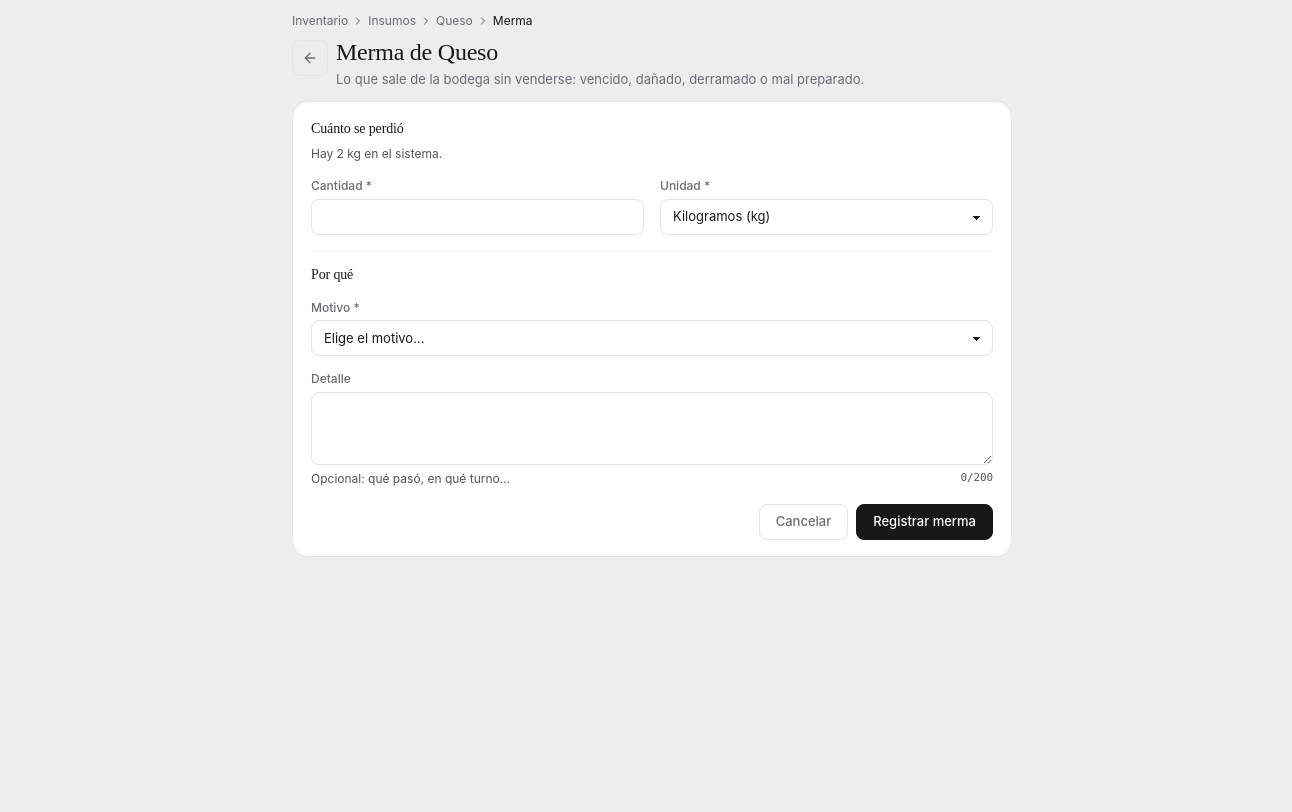
Test: Merma › convierte a la unidad del insumo, dice cuánto quedaría y exige detalle con «Otro»
The image size is (1292, 812).
Select "Gramos (g)" in the dropdown labelled "Unidad *". click: (826, 217)
box: [660,199,993,235]
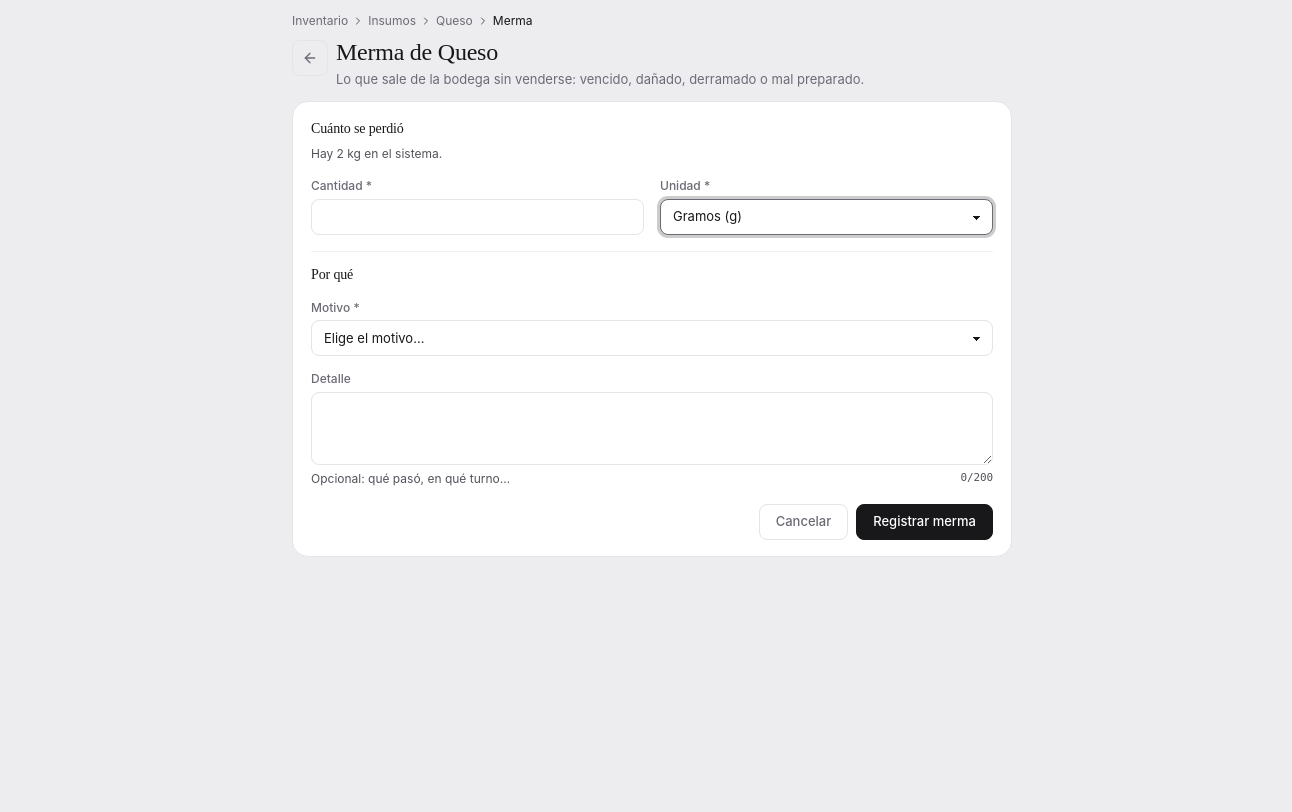
Type "300" into the field labelled "Cantidad *". click: (478, 217)
box: [311,199,644,235]
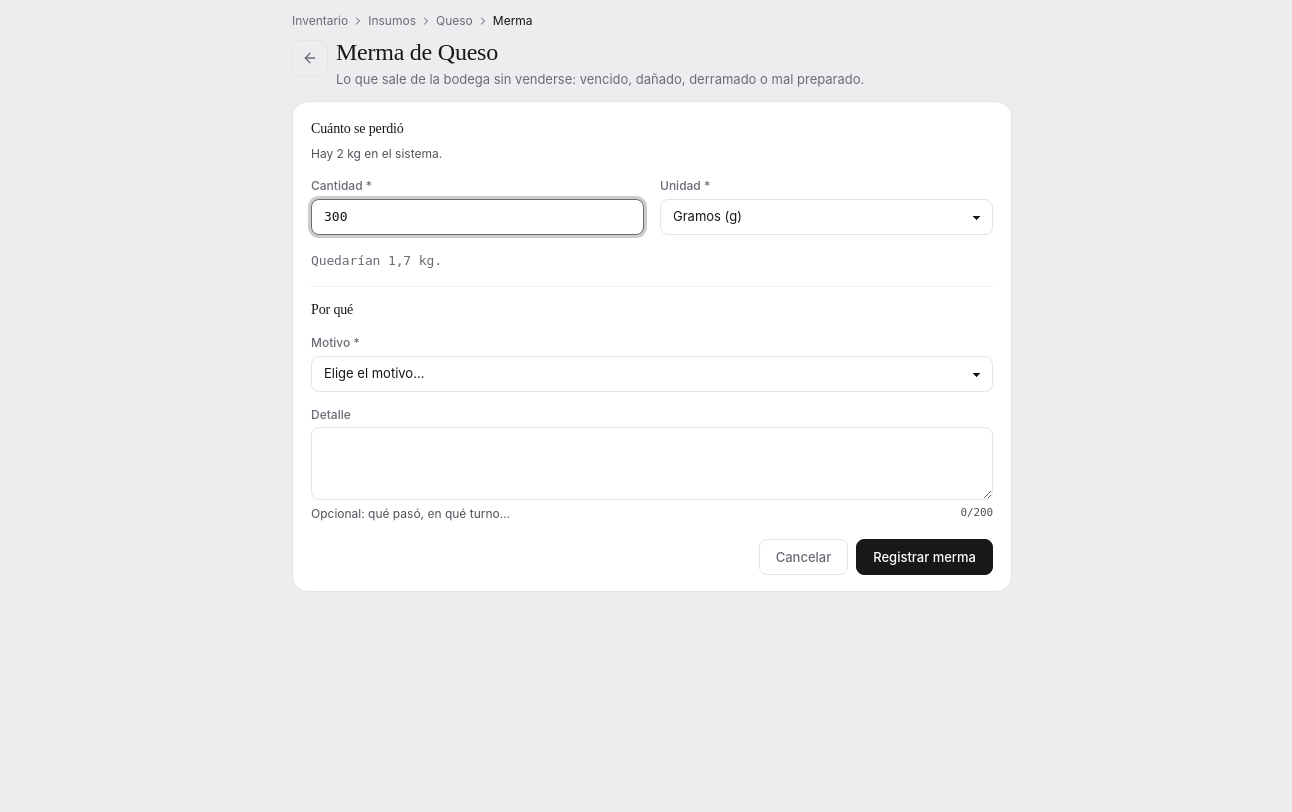
Check: the text "Quedarían 1,7 kg." is shown, box [311,253,442,268]
Select "Otro (cuenta qué pasó)" in the dropdown labelled "Motivo *". click: (652, 374)
box: [311,356,993,392]
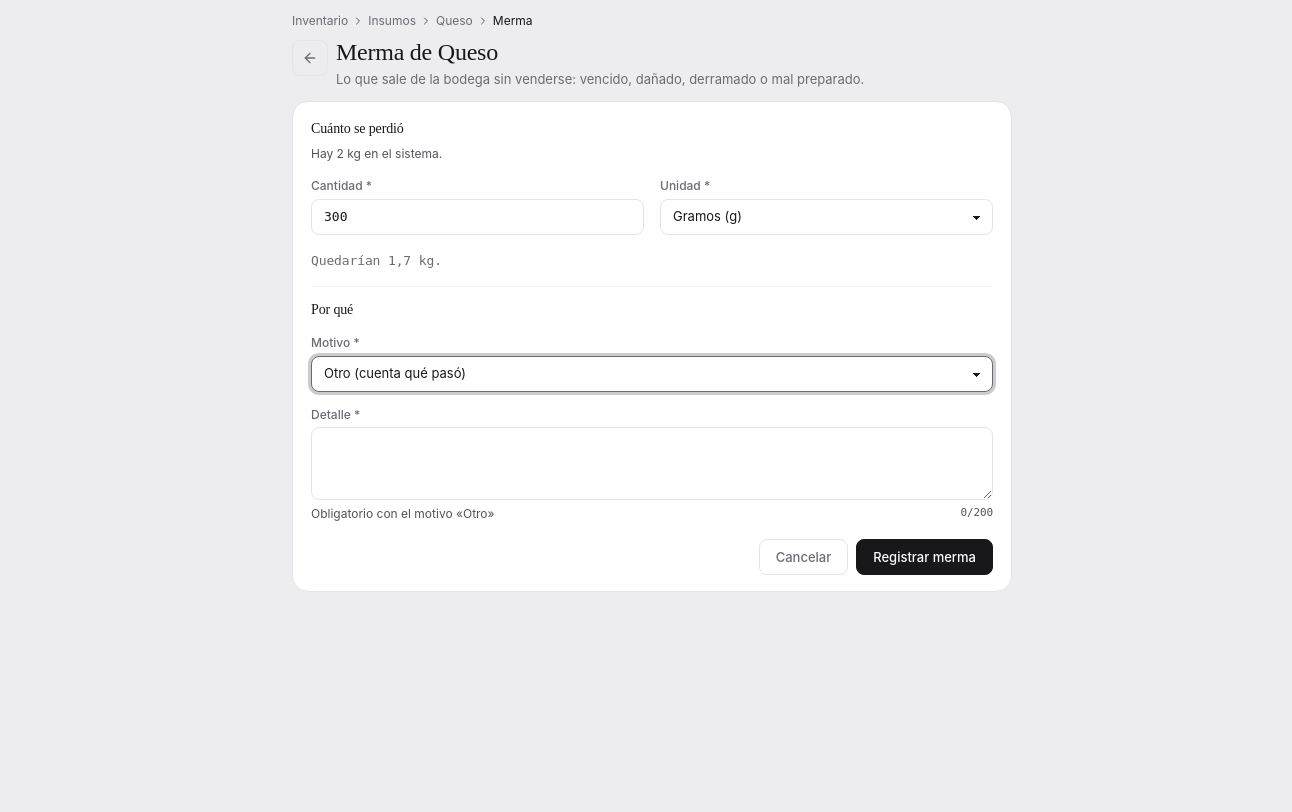
Click the button "Registrar merma". click: (925, 557)
box: [856,539,993,575]
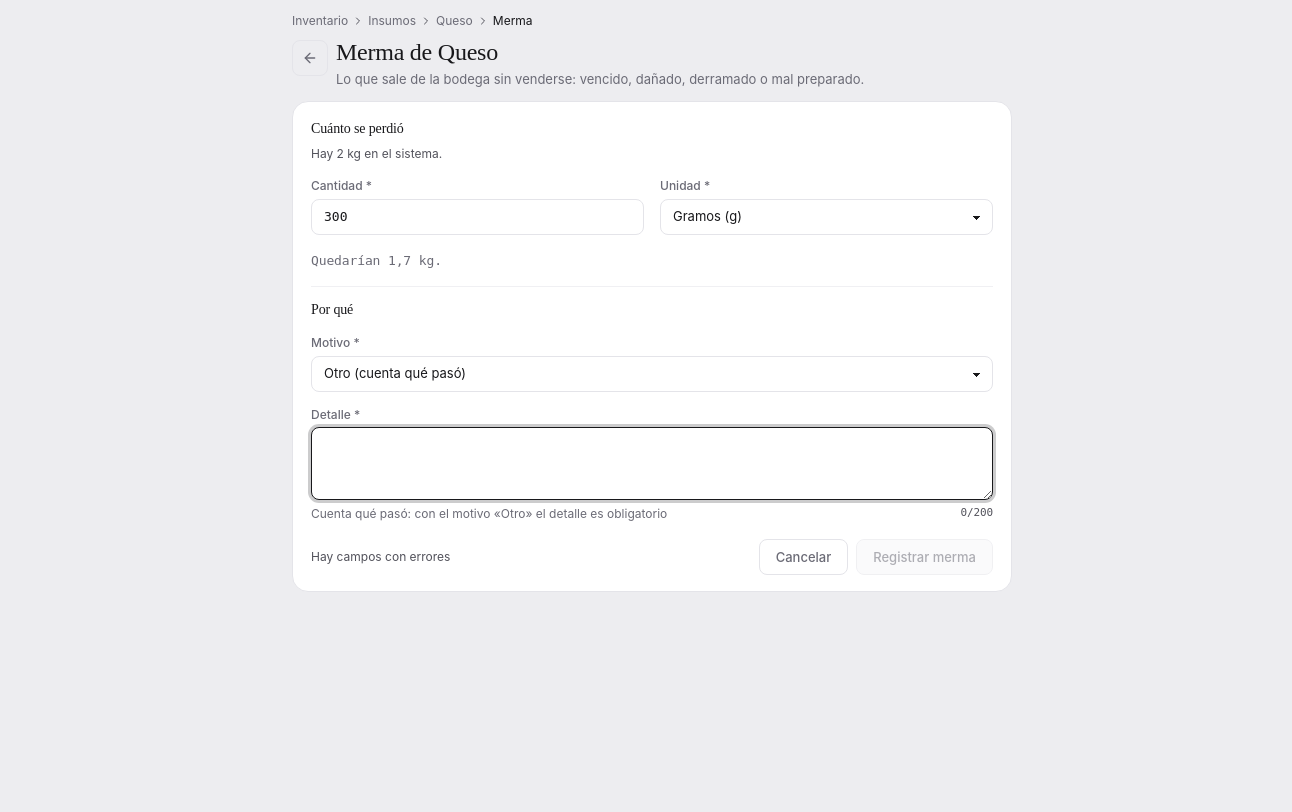
Check: the text "Cuenta qué pasó: con el motivo «Otro» el detalle es obligatorio" is shown, box [311,505,667,523]
Type "Se cortó" into the text box labelled "Detalle *". click: (652, 464)
box: [311,427,993,500]
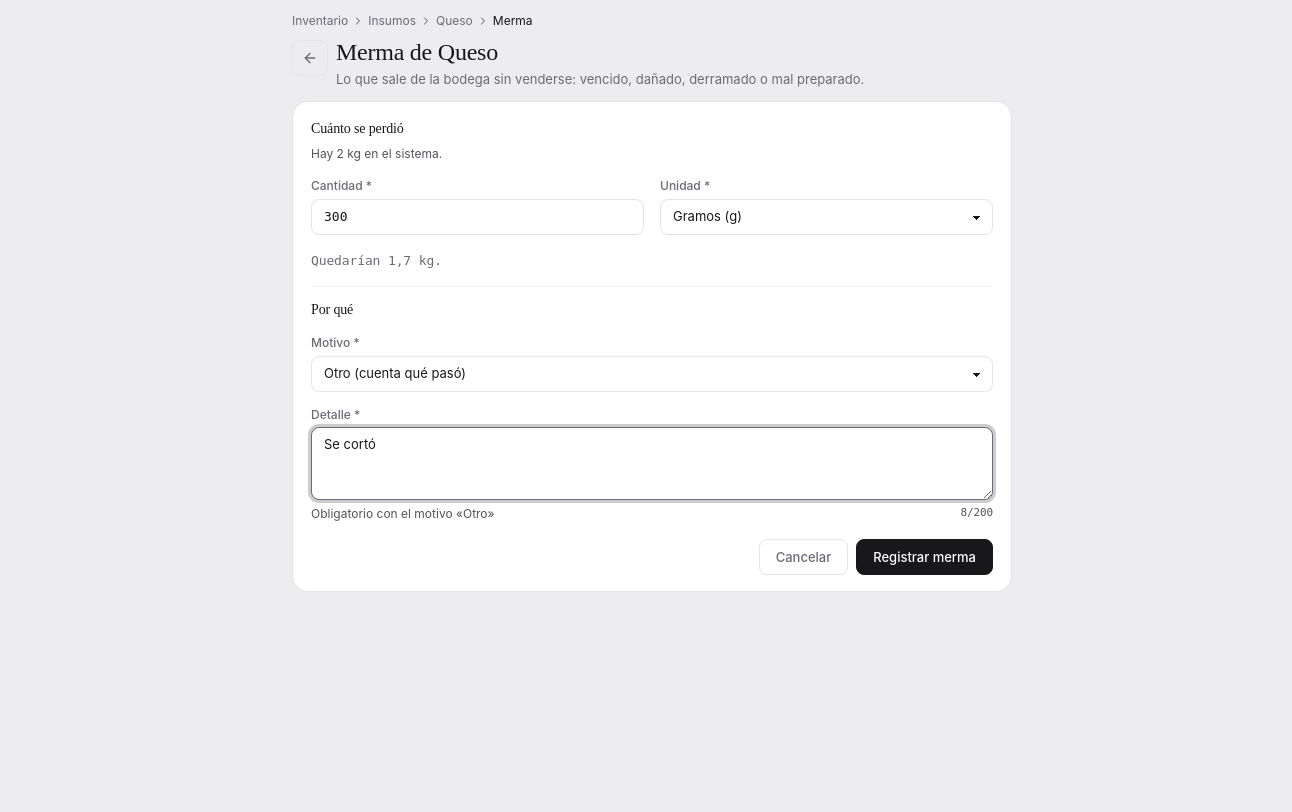
Click the button "Registrar merma". click: (925, 557)
box: [856,539,993,575]
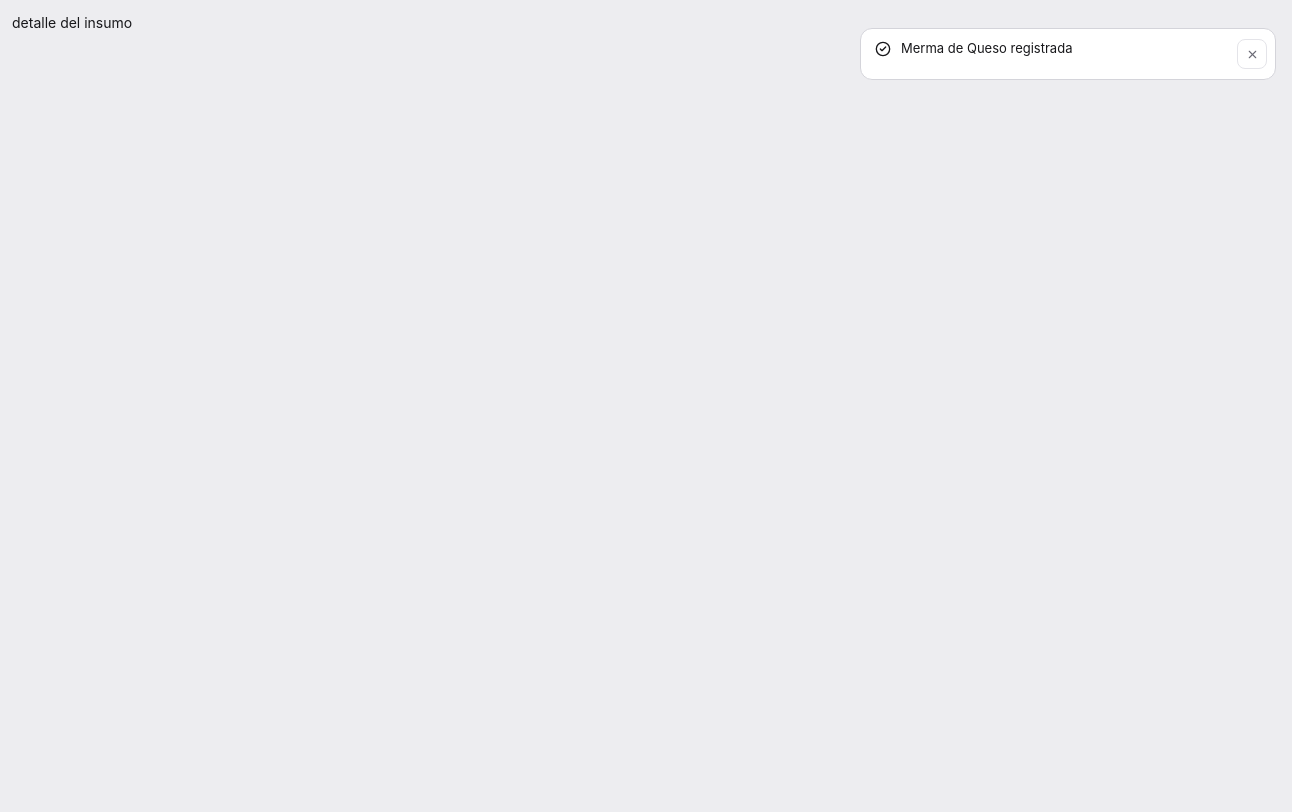
Check: the text "detalle del insumo" is shown, box [12,14,132,31]
Check: the text "Merma de Queso registrada" is shown, box [901,40,1072,56]
